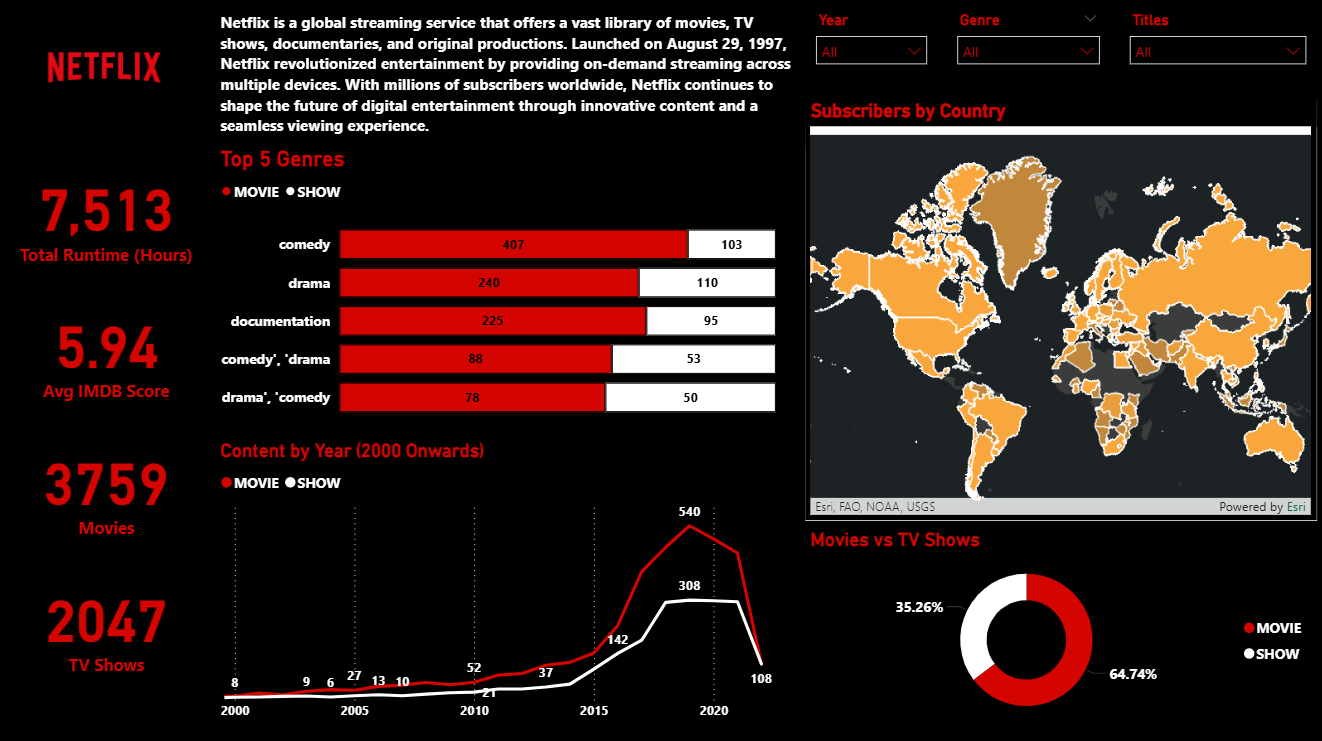

The page's visual inventory and layout, read from the dashboard file:
{"tool":"powerbi","page":{"name":"Page 1","canvas":[1280,720],"ordinal":0},"visuals":[{"type":"card","fields":{"Values":["titles.Total Runtime Hours"]},"box":[12.1,141.1,183.3,131.5],"z":0},{"type":"card","fields":{"Values":["titles.Avg IMDB Score"]},"box":[12.1,272.6,183.3,132.7],"z":1000},{"type":"card","fields":{"Values":["titles.Total Movies"]},"box":[12.1,405.2,183.3,131.5],"z":2000},{"type":"card","fields":{"Values":["titles.Total Shows"]},"box":[12.1,536.7,183.3,132.7],"z":3000},{"type":"donutChart","title":"Movies vs TV Shows","fields":{"Category":["titles.type"],"Y":["CountNonNull(titles.type)"]},"box":[777.9,510.2,493.3,194.2],"z":4000},{"type":"hundredPercentStackedBarChart","title":"Top 5 Genres","fields":{"Category":["titles.genres"],"Y":["CountNonNull(titles.id)"],"Series":["titles.type"]},"box":[208.6,141.1,546.3,277.4],"z":5000},{"type":"lineChart","title":"Content by Year (2000 Onwards)","fields":{"Category":["titles.release_year"],"Y":["CountNonNull(titles.type)"],"Series":["titles.type"]},"box":[208.6,424.5,546.3,279.8],"z":6000},{"type":"esriVisual","title":"Subscribers by Country","fields":{"Location":["titles.production_countries"]},"box":[777.9,96.5,493.3,405.2],"z":7000},{"type":"slicer","fields":{"Values":["titles.title"]},"box":[1080.6,6,190.6,62.7],"z":8000},{"type":"slicer","fields":{"Values":["titles.genres"]},"box":[914.2,6,158,62.7],"z":9000},{"type":"slicer","fields":{"Values":["titles.release_year"]},"box":[777.9,6,127.8,62.7],"z":10000},{"type":"image","box":[0,3.6,195.4,124.2],"z":11000},{"type":"textbox","box":[208.6,6,569.2,135.1],"z":12000}]}

Visuals, with their boxes in screenshot pixels (x1, y1, x2, y2), scaled from the page's 1280x720 canvas onto the 1322x741 screenshot:
card - titles.Total Runtime Hours: detection(12, 145, 202, 281)
card - titles.Avg IMDB Score: detection(12, 281, 202, 417)
card - titles.Total Movies: detection(12, 417, 202, 552)
card - titles.Total Shows: detection(12, 552, 202, 689)
"Movies vs TV Shows" donutChart: detection(803, 525, 1313, 725)
"Top 5 Genres" hundredPercentStackedBarChart: detection(215, 145, 780, 431)
"Content by Year (2000 Onwards)" lineChart: detection(215, 437, 780, 725)
"Subscribers by Country" esriVisual: detection(803, 99, 1313, 516)
slicer - titles.title: detection(1116, 6, 1313, 71)
slicer - titles.genres: detection(944, 6, 1107, 71)
slicer - titles.release_year: detection(803, 6, 935, 71)
image: detection(0, 4, 202, 132)
textbox: detection(215, 6, 803, 145)
